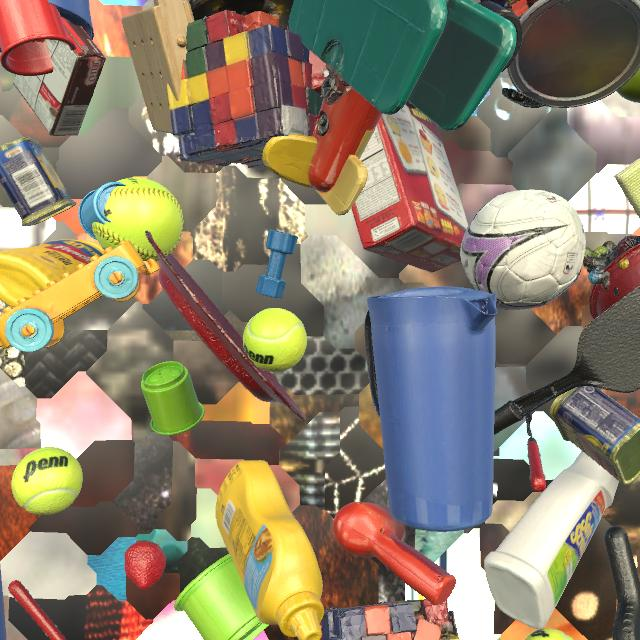ycb_003_cracker_box: (351, 105, 469, 273), (309, 51, 417, 109)
ycb_006_mustard_bottle: (215, 460, 324, 640), (0, 239, 105, 306)
ycb_008_pudding_box: (13, 17, 106, 136)
ycb_010_potted_meat_can: (550, 386, 640, 485), (0, 136, 77, 227)
ycb_012_strawberry: (124, 540, 166, 590)
ycb_016_pear: (616, 68, 640, 103)
